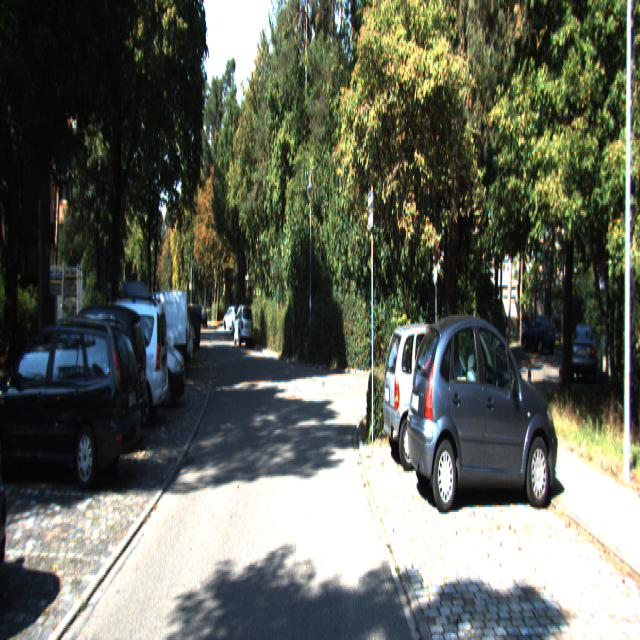Car: (406, 308, 562, 520), (0, 316, 144, 501), (381, 315, 500, 475), (34, 302, 150, 452), (57, 290, 169, 432), (105, 284, 187, 419), (125, 289, 189, 383), (234, 305, 254, 349)
